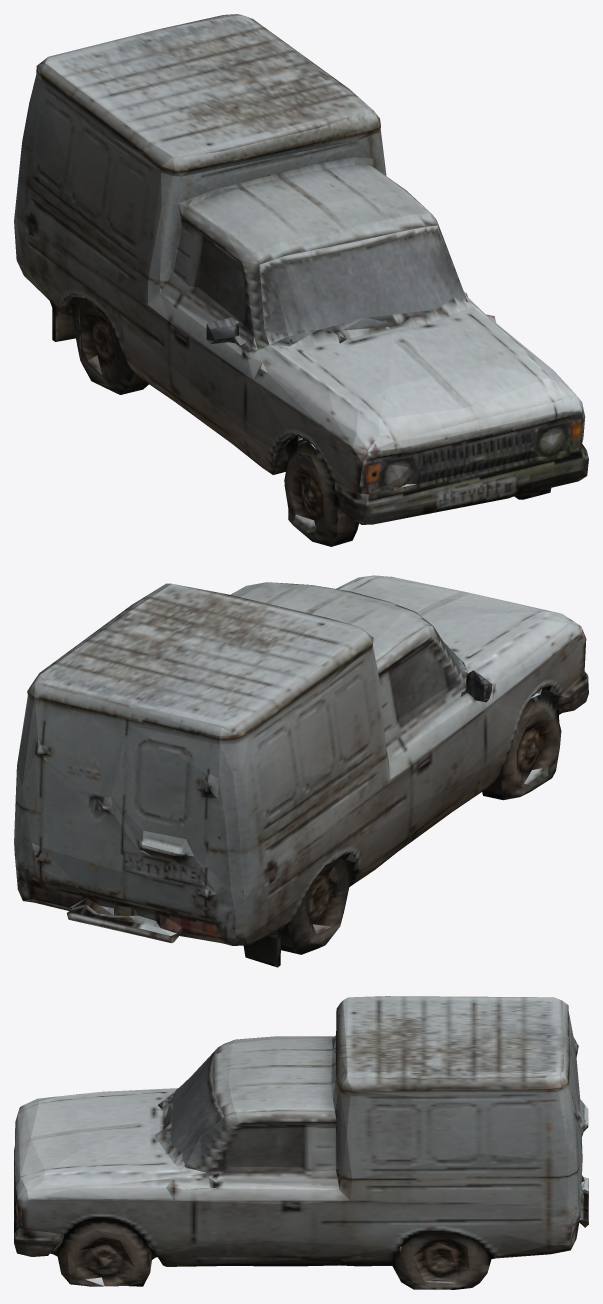
3 views of the same model, one above another, from view 1: azimuth 30°, elevation 25°; view 2: azimuth 150°, elevation 25°; view 3: azimuth 270°, elevation 25° (orthographic). The views are drawn at different scales.
Size of the model in its own units: 1.71 by 1.67 by 4.09.
1 material, 1 textured.
